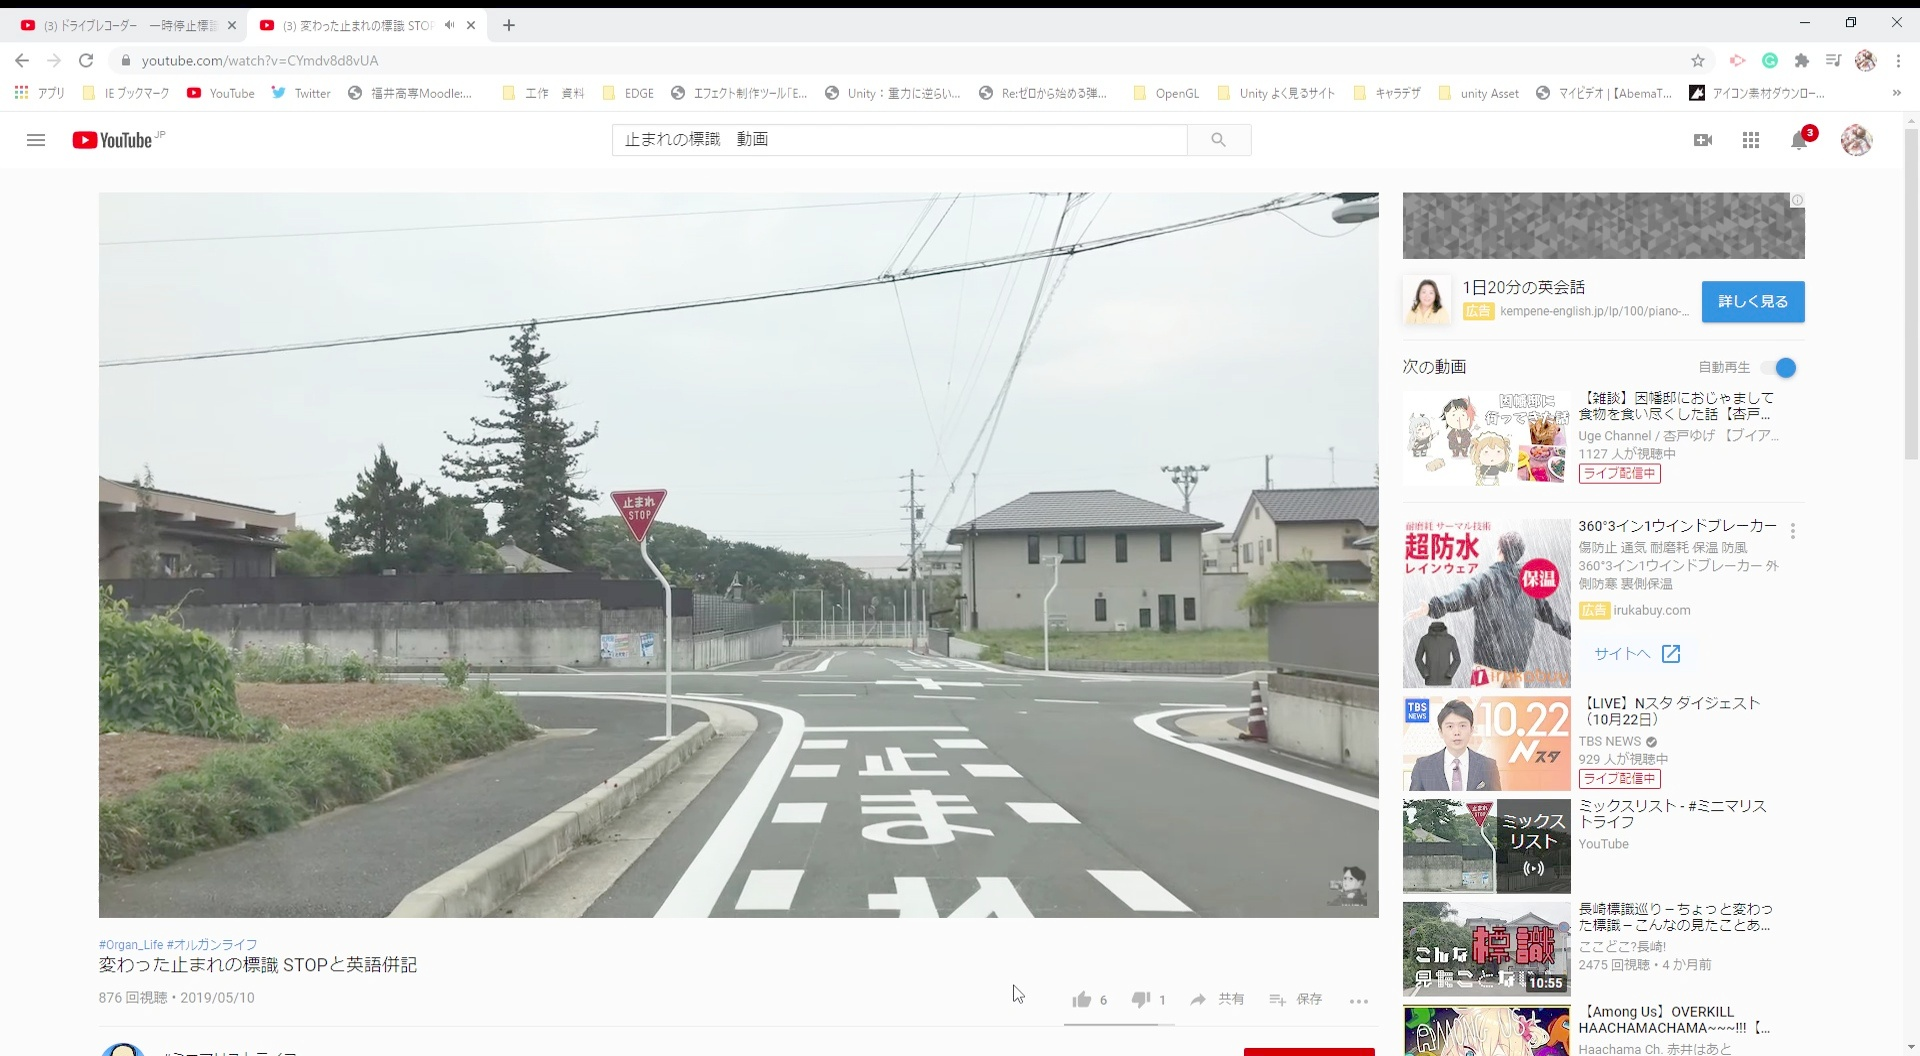Regulatory_sign_triangle: (604, 479, 660, 538)
